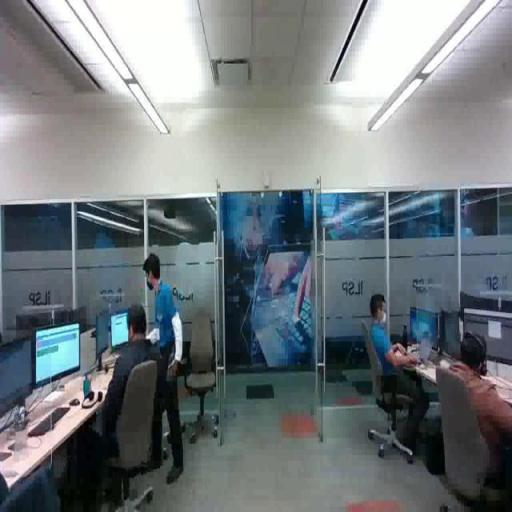person: (368, 288, 443, 469), (101, 302, 175, 485), (137, 248, 192, 488), (442, 328, 512, 512)
